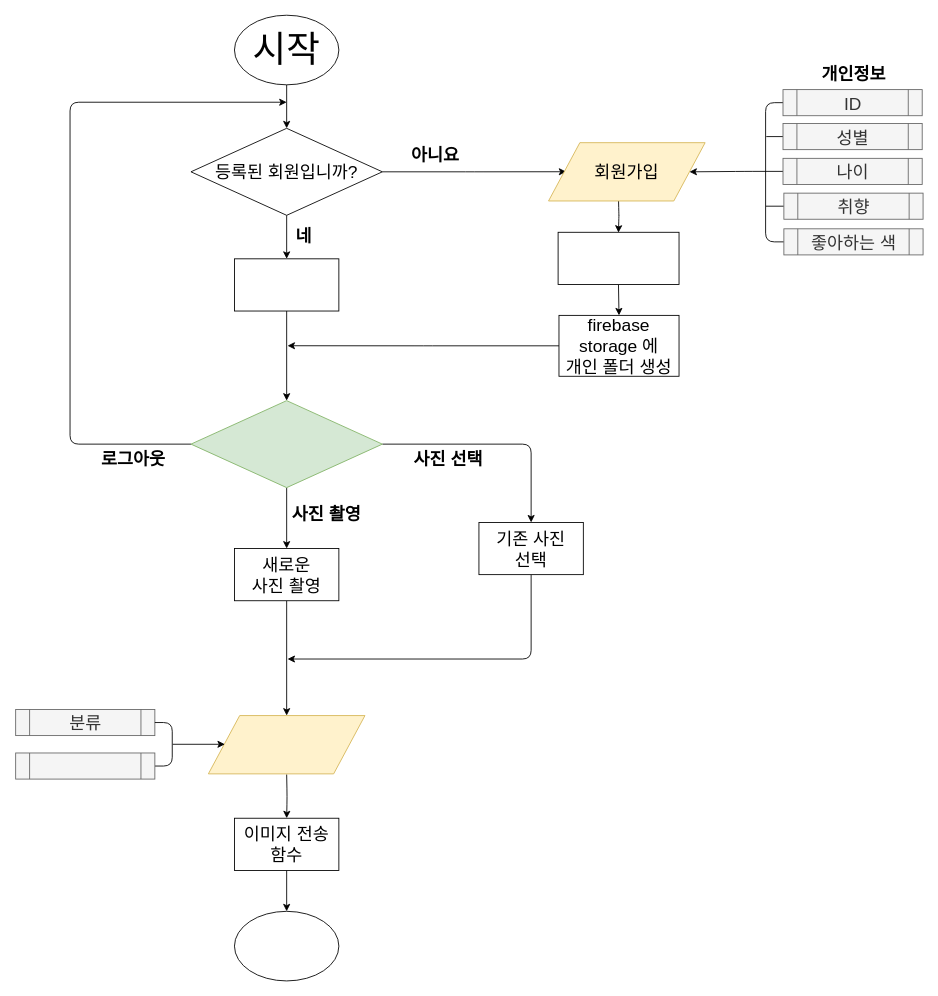
This 938x996 diagram has some shape labels left out. Here are the shapes that lost their labels. From the top down, the centre of each, then its label:
At (618,257): "firebase 에 회원 등록".
At (286,284): "로그인".
At (286,444): "기능 선택".
At (286,744): "메타데이터 생성".
At (85,765): "날씨".
At (286,945): "종료".
